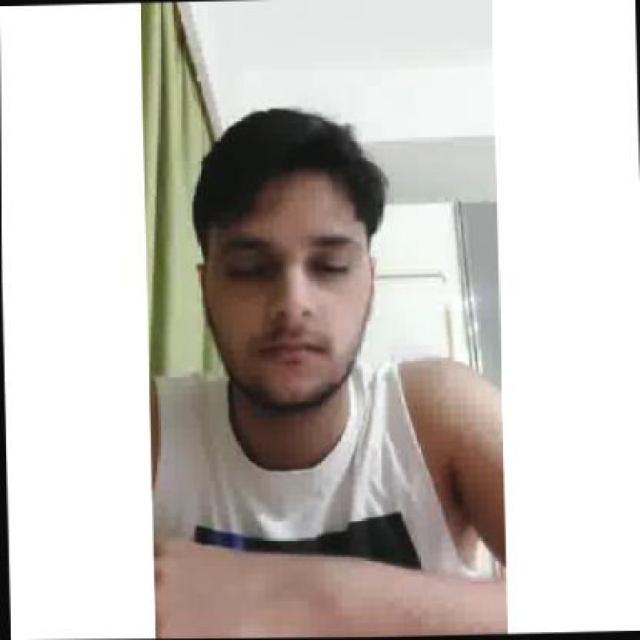inattentif: (187, 103, 375, 415)
